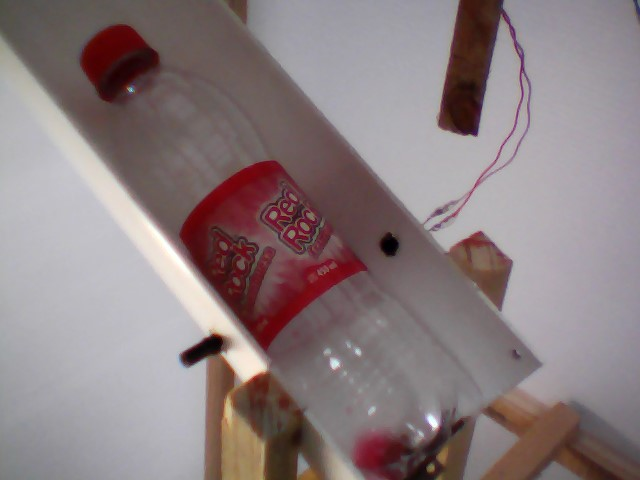plastico: (82, 16, 488, 480)
